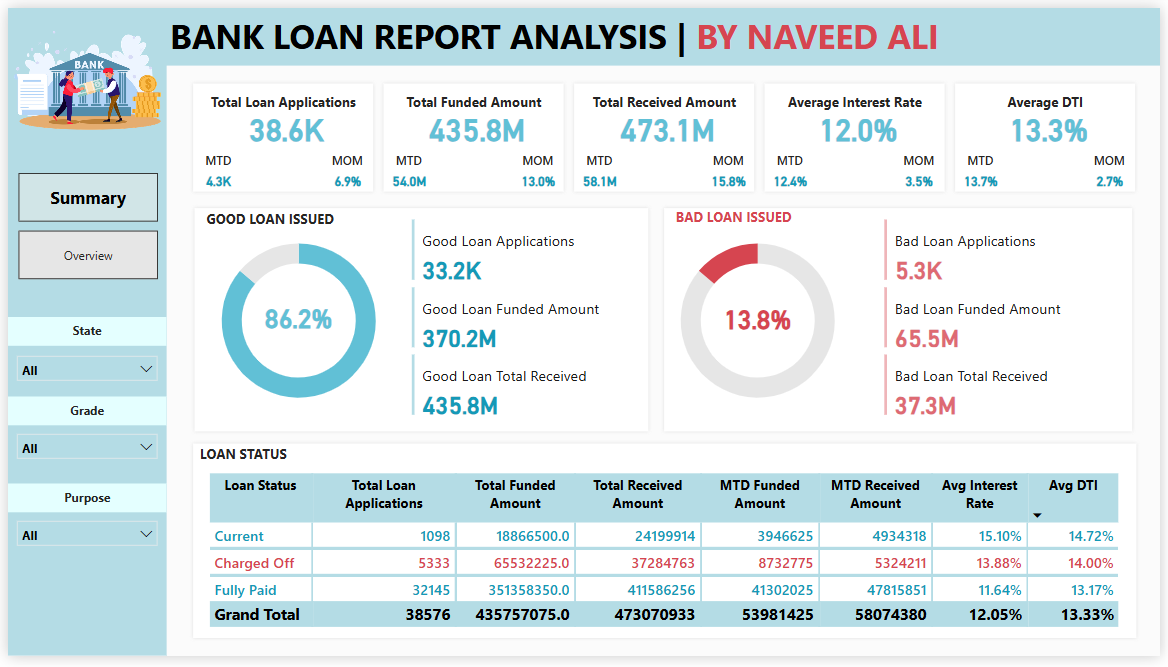

Layout of this report page (visuals, bound fields, positions):
{"tool":"powerbi","page":{"name":"Summary","canvas":[1280,720],"ordinal":0},"visuals":[{"type":"textbox","box":[0,0,1280,64],"z":0},{"type":"shape","box":[0,64,176,656],"z":1000},{"type":"group","id":"g1","title":"Group 1","box":[201,80,212,128],"z":2000},{"type":"shape","box":[201,80,208,128],"z":2000,"group":"g1"},{"type":"shape","box":[413,80,208,128],"z":2000,"group":"g2"},{"type":"shape","box":[625,80,208,128],"z":2000,"group":"g3"},{"type":"shape","box":[837,80,208,128],"z":2000,"group":"g4"},{"type":"shape","box":[1049,80,208,128],"z":2000,"group":"g5"},{"type":"group","id":"g2","title":"Group 1","box":[413,80,212,128],"z":3000},{"type":"card","fields":{"Values":["_Measures.Total_loan_applications"]},"box":[205,112,208,48],"z":3000,"group":"g1"},{"type":"card","fields":{"Values":["_Measures.Total Funded Amount"]},"box":[417,112,208,48],"z":3000,"group":"g2"},{"type":"card","fields":{"Values":["_Measures.Total Received Amount"]},"box":[629,112,208,48],"z":3000,"group":"g3"},{"type":"card","fields":{"Values":["_Measures.Avg Interest Rate"]},"box":[841,112,208,48],"z":3000,"group":"g4"},{"type":"card","fields":{"Values":["_Measures.Avg dti"]},"box":[1053,112,208,48],"z":3000,"group":"g5"},{"type":"shape","box":[202.2,218.2,512,256],"z":3000,"group":"g7"},{"type":"group","id":"g3","title":"Group 1","box":[625,80,212,128],"z":4000},{"type":"textbox","box":[209,88,192,32],"z":4000,"group":"g1"},{"type":"textbox","box":[421,88,192,32],"z":4000,"group":"g2"},{"type":"textbox","box":[633,88,192,32],"z":4000,"group":"g3"},{"type":"textbox","box":[845,88,192,32],"z":4000,"group":"g4"},{"type":"textbox","box":[1057,88,192,32],"z":4000,"group":"g5"},{"type":"cardVisual","fields":{"Data":["_Measures.Good Loan Applications","_Measures.Good Loan Funded Amount","_Measures.Good Loan Total Received"]},"box":[442.2,234.2,256,224],"z":4000,"group":"g7"},{"type":"card","title":"MTD","fields":{"Values":["_Measures.MTD Loan Applications"]},"box":[201,160,64,48],"z":5000,"group":"g1"},{"type":"card","title":"MTD","fields":{"Values":["_Measures.MTD Total Funded Amount"]},"box":[413,160,64,48],"z":5000,"group":"g2"},{"type":"card","title":"MTD","fields":{"Values":["_Measures.MTD Received Amount"]},"box":[625,160,64,48],"z":5000,"group":"g3"},{"type":"card","title":"MTD","fields":{"Values":["_Measures.MTD Avg Interest Rate"]},"box":[837,160,64,48],"z":5000,"group":"g4"},{"type":"card","title":"MTD","fields":{"Values":["_Measures.MTD Avg dti"]},"box":[1049,160,64,48],"z":5000,"group":"g5"},{"type":"textbox","box":[202.7,218,176,32],"z":5000,"group":"g7"},{"type":"textbox","box":[0,344,176,32],"z":5000},{"type":"group","id":"g4","title":"Group 1","box":[837,80,212,128],"z":6000},{"type":"card","title":"MOM","fields":{"Values":["_Measures.MOM Loan Applications"]},"box":[345,160,64,48],"z":6000,"group":"g1"},{"type":"card","title":"MOM","fields":{"Values":["_Measures.MOM Funded Amount"]},"box":[557,160,64,48],"z":6000,"group":"g2"},{"type":"card","title":"MOM","fields":{"Values":["_Measures.MOM Received Amount"]},"box":[769,160,64,48],"z":6000,"group":"g3"},{"type":"card","title":"MOM","fields":{"Values":["_Measures.MOM Avg Interest Rate"]},"box":[981,160,64,48],"z":6000,"group":"g4"},{"type":"card","title":"MOM","fields":{"Values":["_Measures.MOM Avg dti"]},"box":[1193,160,64,48],"z":6000,"group":"g5"},{"type":"group","id":"g5","title":"Group 1","box":[1049,80,212,128],"z":7000},{"type":"shape","box":[202.2,480,1056,224],"z":7000,"group":"g9"},{"type":"group","id":"g6","title":"Group 4","box":[696,216,557,258.2],"z":8000},{"type":"card","fields":{"Values":["_Measures.Good Loan %"]},"box":[258.2,316.3,128,59.7],"z":8000,"group":"g8"},{"type":"group","id":"g7","title":"Group 5","box":[186.2,218,528,256.2],"z":9000},{"type":"tableEx","fields":{"Values":["financial_loan.loan_status","_Measures.Total_loan_applications","_Measures.Total Funded Amount","_Measures.Total Received Amount","_Measures.MTD Total Funded Amount","_Measures.MTD Received Amount","_Measures.Avg Interest Rate","_Measures.Avg dti"]},"box":[218.2,512,1024,192],"z":9000,"group":"g9"},{"type":"group","id":"g8","title":"Group 2","box":[186.2,234.2,272,224],"z":10000,"group":"g7"},{"type":"donutChart","fields":{"Category":["financial_loan.loan_status (groups)"],"Y":["_Measures.Total_loan_applications"]},"box":[186.2,234.2,272,224],"z":10000,"group":"g8"},{"type":"donutChart","fields":{"Category":["financial_loan.loan_status (groups)"],"Y":["_Measures.Total_loan_applications"]},"box":[696,234.2,272,224],"z":10000,"group":"g10"},{"type":"group","id":"g9","title":"Group 6","box":[202.2,480,1056,224],"z":10000},{"type":"shape","box":[725,218.2,528,256],"z":11000,"group":"g6"},{"type":"textbox","box":[208,480,176,32],"z":11000},{"type":"group","id":"g10","title":"Group 3","box":[696,234.2,272,224],"z":12000,"group":"g6"},{"type":"card","fields":{"Values":["_Measures.Bad Loan %"]},"box":[768,314.2,128,64],"z":12000,"group":"g10"},{"type":"slicer","fields":{"Values":["financial_loan.address_state"]},"box":[0,376,176,48],"z":12000},{"type":"textbox","box":[717.9,216,176,32],"z":13000,"group":"g6"},{"type":"textbox","box":[0,432,176,32],"z":13000},{"type":"cardVisual","fields":{"Data":["_Measures.Bad Loan Applications","_Measures.Bad Loan Funded Amount","_Measures.Bad Loan Total Received"]},"box":[968,234.2,256,224],"z":14000,"group":"g6"},{"type":"slicer","fields":{"Values":["financial_loan.grade"]},"box":[0,464,176,48],"z":14000},{"type":"textbox","box":[0,528,176,32],"z":15000},{"type":"slicer","fields":{"Values":["financial_loan.purpose"]},"box":[0,560,176,48],"z":16000},{"type":"image","box":[0,0,176,160],"z":17000},{"type":"pageNavigator","box":[11.7,183.3,155,118.3],"z":17001}]}

Visuals, with their boxes in screenshot pixels (x1, y1, x2, y2), scaled from the page's 1280x720 canvas onto the 1168x667 screenshot:
textbox: (x1=0, y1=0, x2=1167, y2=59)
shape: (x1=0, y1=59, x2=161, y2=666)
"Group 1" group: (x1=183, y1=74, x2=377, y2=193)
shape: (x1=183, y1=74, x2=373, y2=193)
shape: (x1=377, y1=74, x2=567, y2=193)
shape: (x1=570, y1=74, x2=760, y2=193)
shape: (x1=764, y1=74, x2=954, y2=193)
shape: (x1=957, y1=74, x2=1147, y2=193)
"Group 1" group: (x1=377, y1=74, x2=570, y2=193)
card - _Measures.Total_loan_applications: (x1=187, y1=104, x2=377, y2=148)
card - _Measures.Total Funded Amount: (x1=381, y1=104, x2=570, y2=148)
card - _Measures.Total Received Amount: (x1=574, y1=104, x2=764, y2=148)
card - _Measures.Avg Interest Rate: (x1=767, y1=104, x2=957, y2=148)
card - _Measures.Avg dti: (x1=961, y1=104, x2=1151, y2=148)
shape: (x1=185, y1=202, x2=652, y2=439)
"Group 1" group: (x1=570, y1=74, x2=764, y2=193)
textbox: (x1=191, y1=82, x2=366, y2=111)
textbox: (x1=384, y1=82, x2=559, y2=111)
textbox: (x1=578, y1=82, x2=753, y2=111)
textbox: (x1=771, y1=82, x2=946, y2=111)
textbox: (x1=965, y1=82, x2=1140, y2=111)
cardVisual - _Measures.Good Loan Applications x _Measures.Good Loan Funded Amount: (x1=404, y1=217, x2=637, y2=424)
"MTD" card: (x1=183, y1=148, x2=242, y2=193)
"MTD" card: (x1=377, y1=148, x2=435, y2=193)
"MTD" card: (x1=570, y1=148, x2=629, y2=193)
"MTD" card: (x1=764, y1=148, x2=822, y2=193)
"MTD" card: (x1=957, y1=148, x2=1016, y2=193)
textbox: (x1=185, y1=202, x2=346, y2=232)
textbox: (x1=0, y1=319, x2=161, y2=348)
"Group 1" group: (x1=764, y1=74, x2=957, y2=193)
"MOM" card: (x1=315, y1=148, x2=373, y2=193)
"MOM" card: (x1=508, y1=148, x2=567, y2=193)
"MOM" card: (x1=702, y1=148, x2=760, y2=193)
"MOM" card: (x1=895, y1=148, x2=954, y2=193)
"MOM" card: (x1=1089, y1=148, x2=1147, y2=193)
"Group 1" group: (x1=957, y1=74, x2=1151, y2=193)
shape: (x1=185, y1=445, x2=1148, y2=652)
"Group 4" group: (x1=635, y1=200, x2=1143, y2=439)
card - _Measures.Good Loan %: (x1=236, y1=293, x2=352, y2=348)
"Group 5" group: (x1=170, y1=202, x2=652, y2=439)
tableEx - financial_loan.loan_status x _Measures.Total_loan_applications: (x1=199, y1=474, x2=1134, y2=652)
"Group 2" group: (x1=170, y1=217, x2=418, y2=424)
donutChart - financial_loan.loan_status (groups) x _Measures.Total_loan_applications: (x1=170, y1=217, x2=418, y2=424)
donutChart - financial_loan.loan_status (groups) x _Measures.Total_loan_applications: (x1=635, y1=217, x2=883, y2=424)
"Group 6" group: (x1=185, y1=445, x2=1148, y2=652)
shape: (x1=662, y1=202, x2=1143, y2=439)
textbox: (x1=190, y1=445, x2=350, y2=474)
"Group 3" group: (x1=635, y1=217, x2=883, y2=424)
card - _Measures.Bad Loan %: (x1=701, y1=291, x2=818, y2=350)
slicer - financial_loan.address_state: (x1=0, y1=348, x2=161, y2=393)
textbox: (x1=655, y1=200, x2=816, y2=230)
textbox: (x1=0, y1=400, x2=161, y2=430)
cardVisual - _Measures.Bad Loan Applications x _Measures.Bad Loan Funded Amount: (x1=883, y1=217, x2=1117, y2=424)
slicer - financial_loan.grade: (x1=0, y1=430, x2=161, y2=474)
textbox: (x1=0, y1=489, x2=161, y2=519)
slicer - financial_loan.purpose: (x1=0, y1=519, x2=161, y2=563)
image: (x1=0, y1=0, x2=161, y2=148)
pageNavigator: (x1=11, y1=170, x2=152, y2=279)
